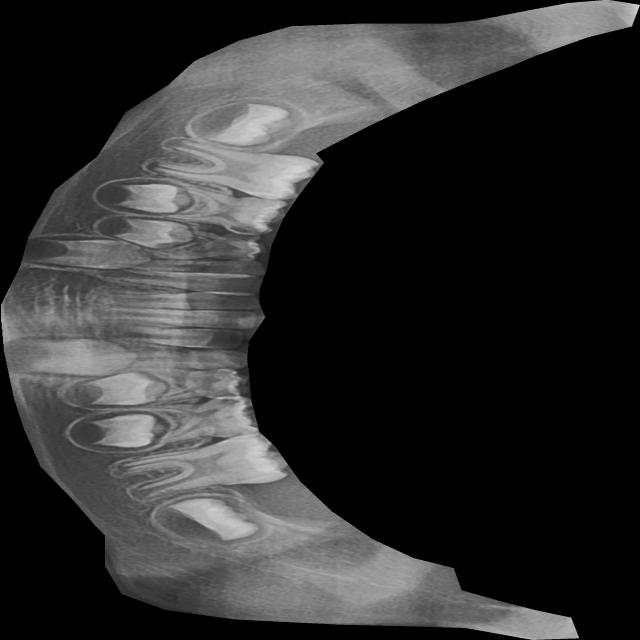mandibula: (0, 0, 639, 640)
